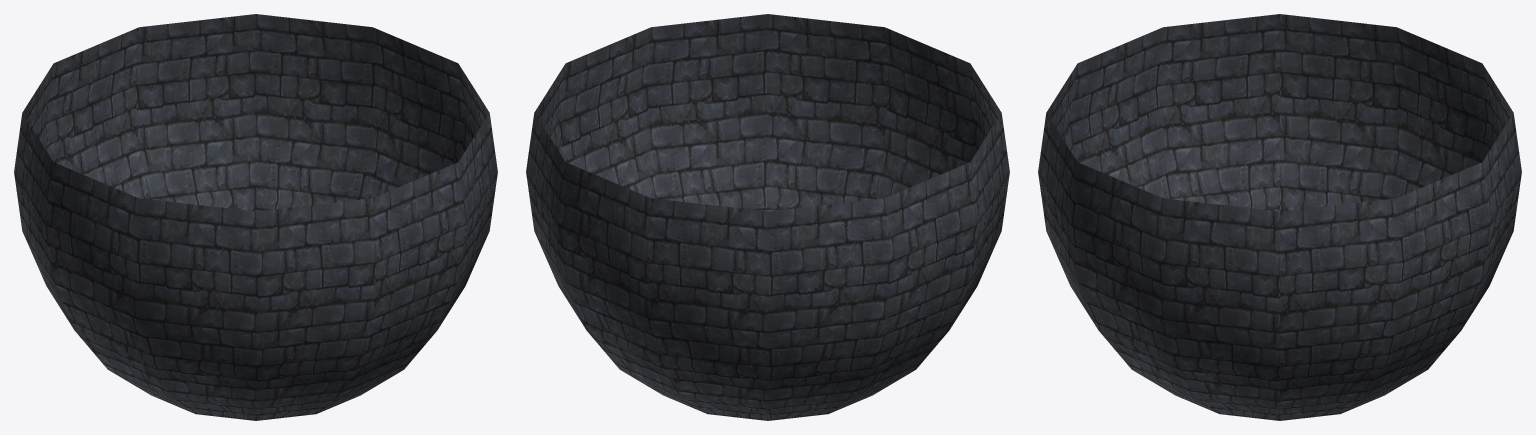
Rendered from XSD_tiankong.fbx.
3 views of the same model, side by side, from view 1: azimuth 30°, elevation 25°; view 2: azimuth 150°, elevation 25°; view 3: azimuth 270°, elevation 25° (orthographic).
Parts seen in each view (by area): view 1: polySurface1; view 2: polySurface1; view 3: polySurface1.
Part boxes in pixels (<box>): polySurface1: <box>14,14,497,420</box>; polySurface1: <box>526,14,1009,420</box>; polySurface1: <box>1038,14,1521,420</box>.
Size of the model in its own units: 7.86 by 5.16 by 7.86.
